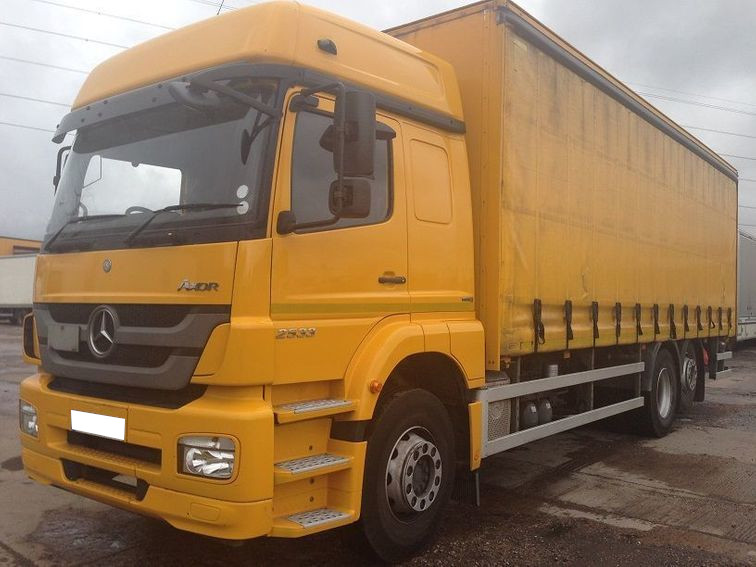Semi: (19, 9, 739, 565)
